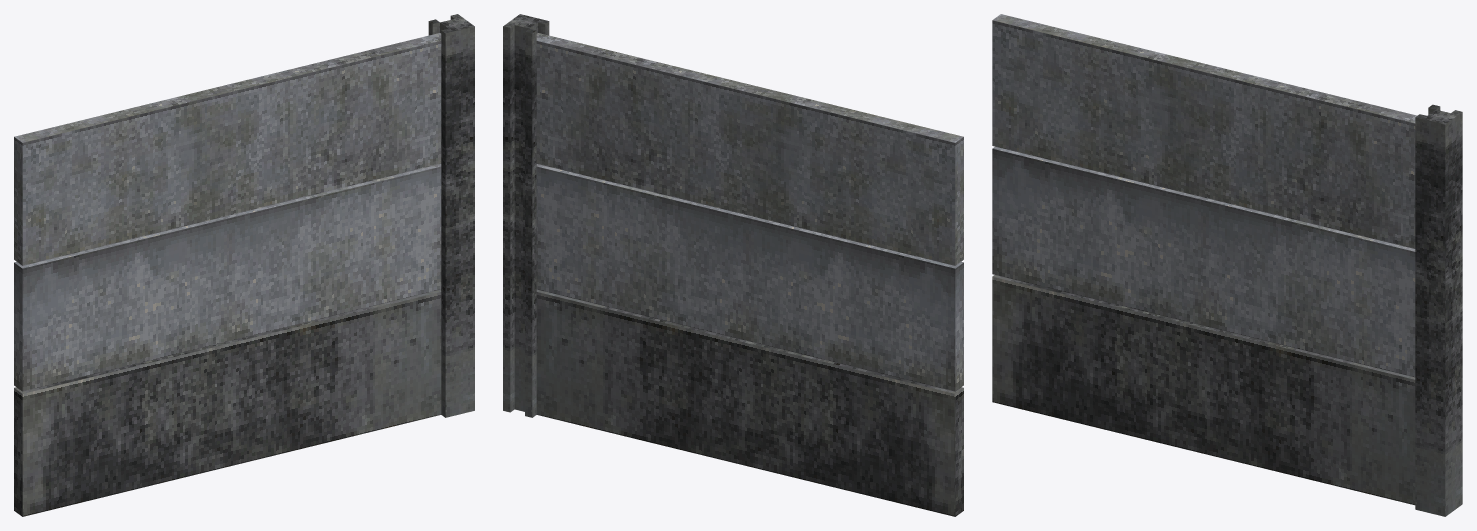
The model's file is plackard_corner.glb.
The picture shows the model from 3 angles, left to right: view 1: azimuth 30°, elevation 25°; view 2: azimuth 150°, elevation 25°; view 3: azimuth 330°, elevation 25°; orthographic projection. The views are drawn at different scales.
Parts seen in each view (by area): view 1: plackard_corner; view 2: plackard_corner; view 3: plackard_corner.
Part boxes in pixels (<box>): plackard_corner: <box>14,14,474,516</box>; plackard_corner: <box>503,14,963,516</box>; plackard_corner: <box>992,14,1462,516</box>.
Size of the model in its own units: 3.81 by 3.12 by 0.25.
1 material, 1 textured.
